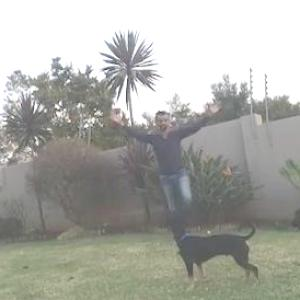takeoff: (104, 103, 223, 234)
